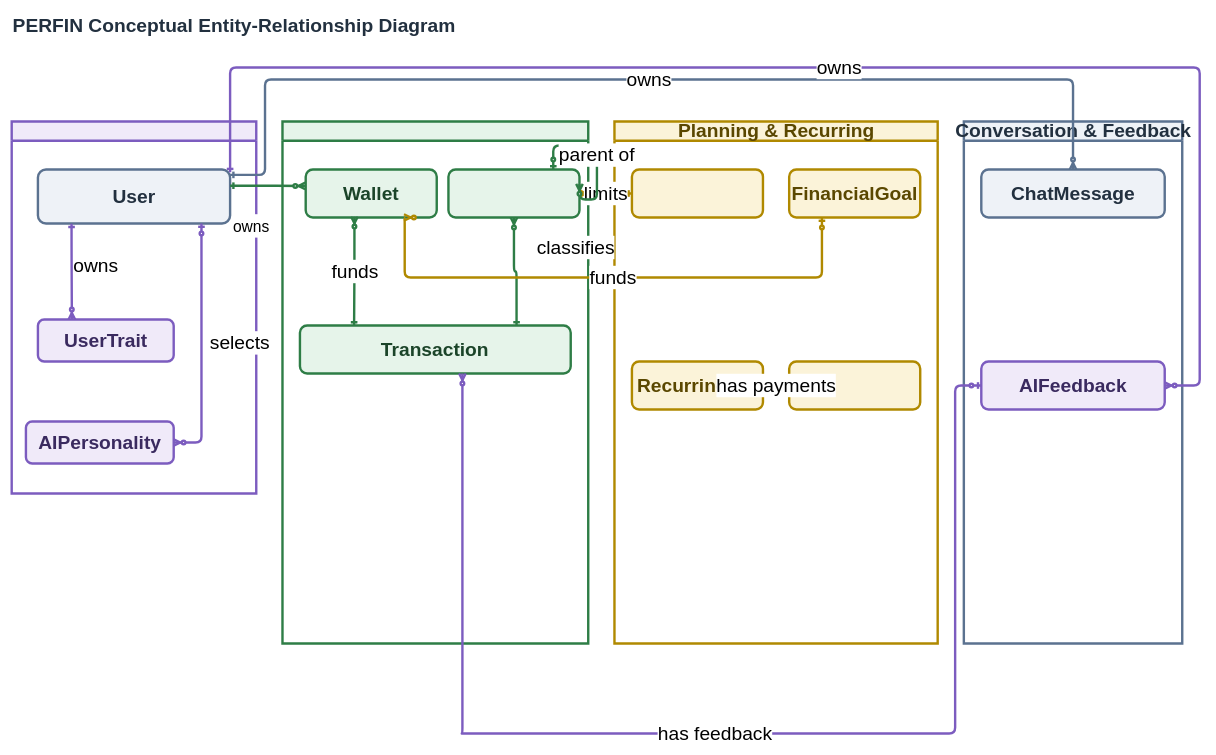
Some shapes in this 1216 by 755 pixel diagram are drawn without their labels. Each missing label, with the box of its shape:
Budget: (630, 168, 764, 218)
Category: (447, 168, 580, 218)
Identity & Personalization: (10, 120, 257, 494)
Ledger: (281, 120, 589, 644)
RecurringPayment: (788, 360, 921, 410)
